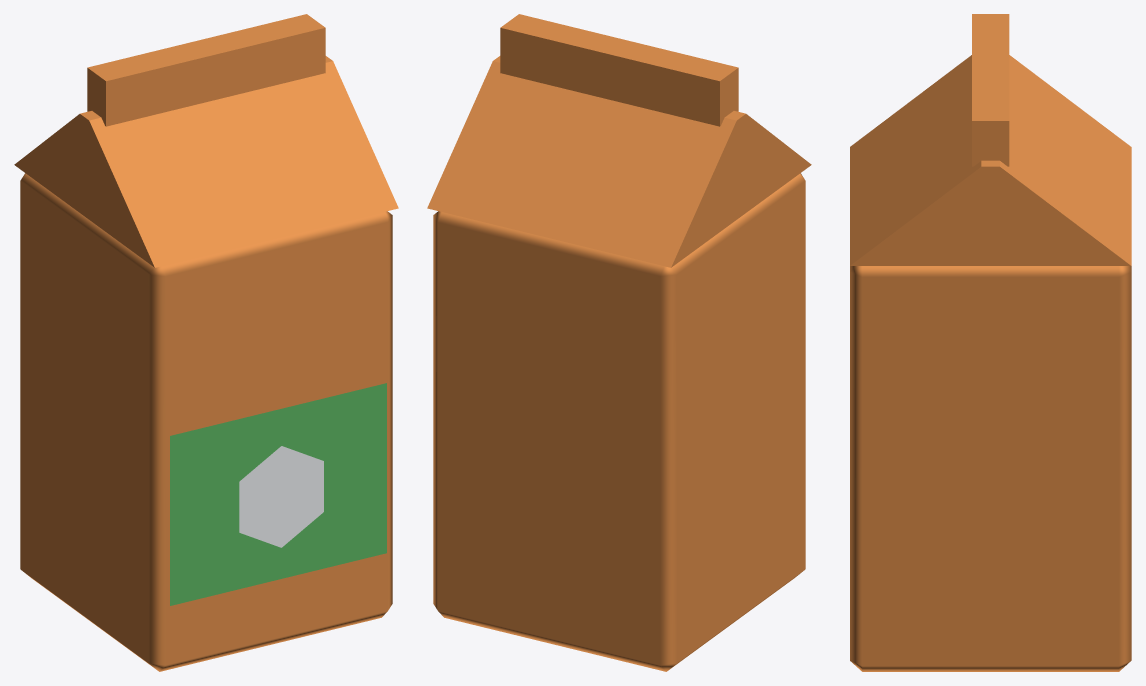
File: CM_Product_JuiceCarton.fbx
3 views of the same model, side by side, from view 1: azimuth 30°, elevation 25°; view 2: azimuth 150°, elevation 25°; view 3: azimuth 270°, elevation 25° (orthographic).
Parts seen in each view (by area): view 1: JuiceCarton; view 2: JuiceCarton; view 3: JuiceCarton.
Boxes of the visible parts, x1,y1,x2,y2 form: JuiceCarton: (14, 14, 398, 671); JuiceCarton: (427, 14, 811, 671); JuiceCarton: (850, 14, 1131, 671).
Bounding box in the file's own units: 0.9 × 0.93 × 1.94.
Materials: 1 (1 with a texture image).
